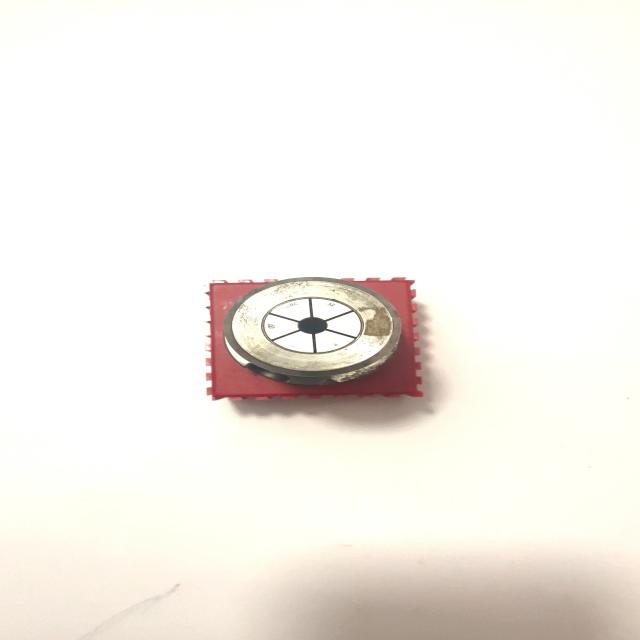Filled_Slot: (223, 277, 401, 385)
